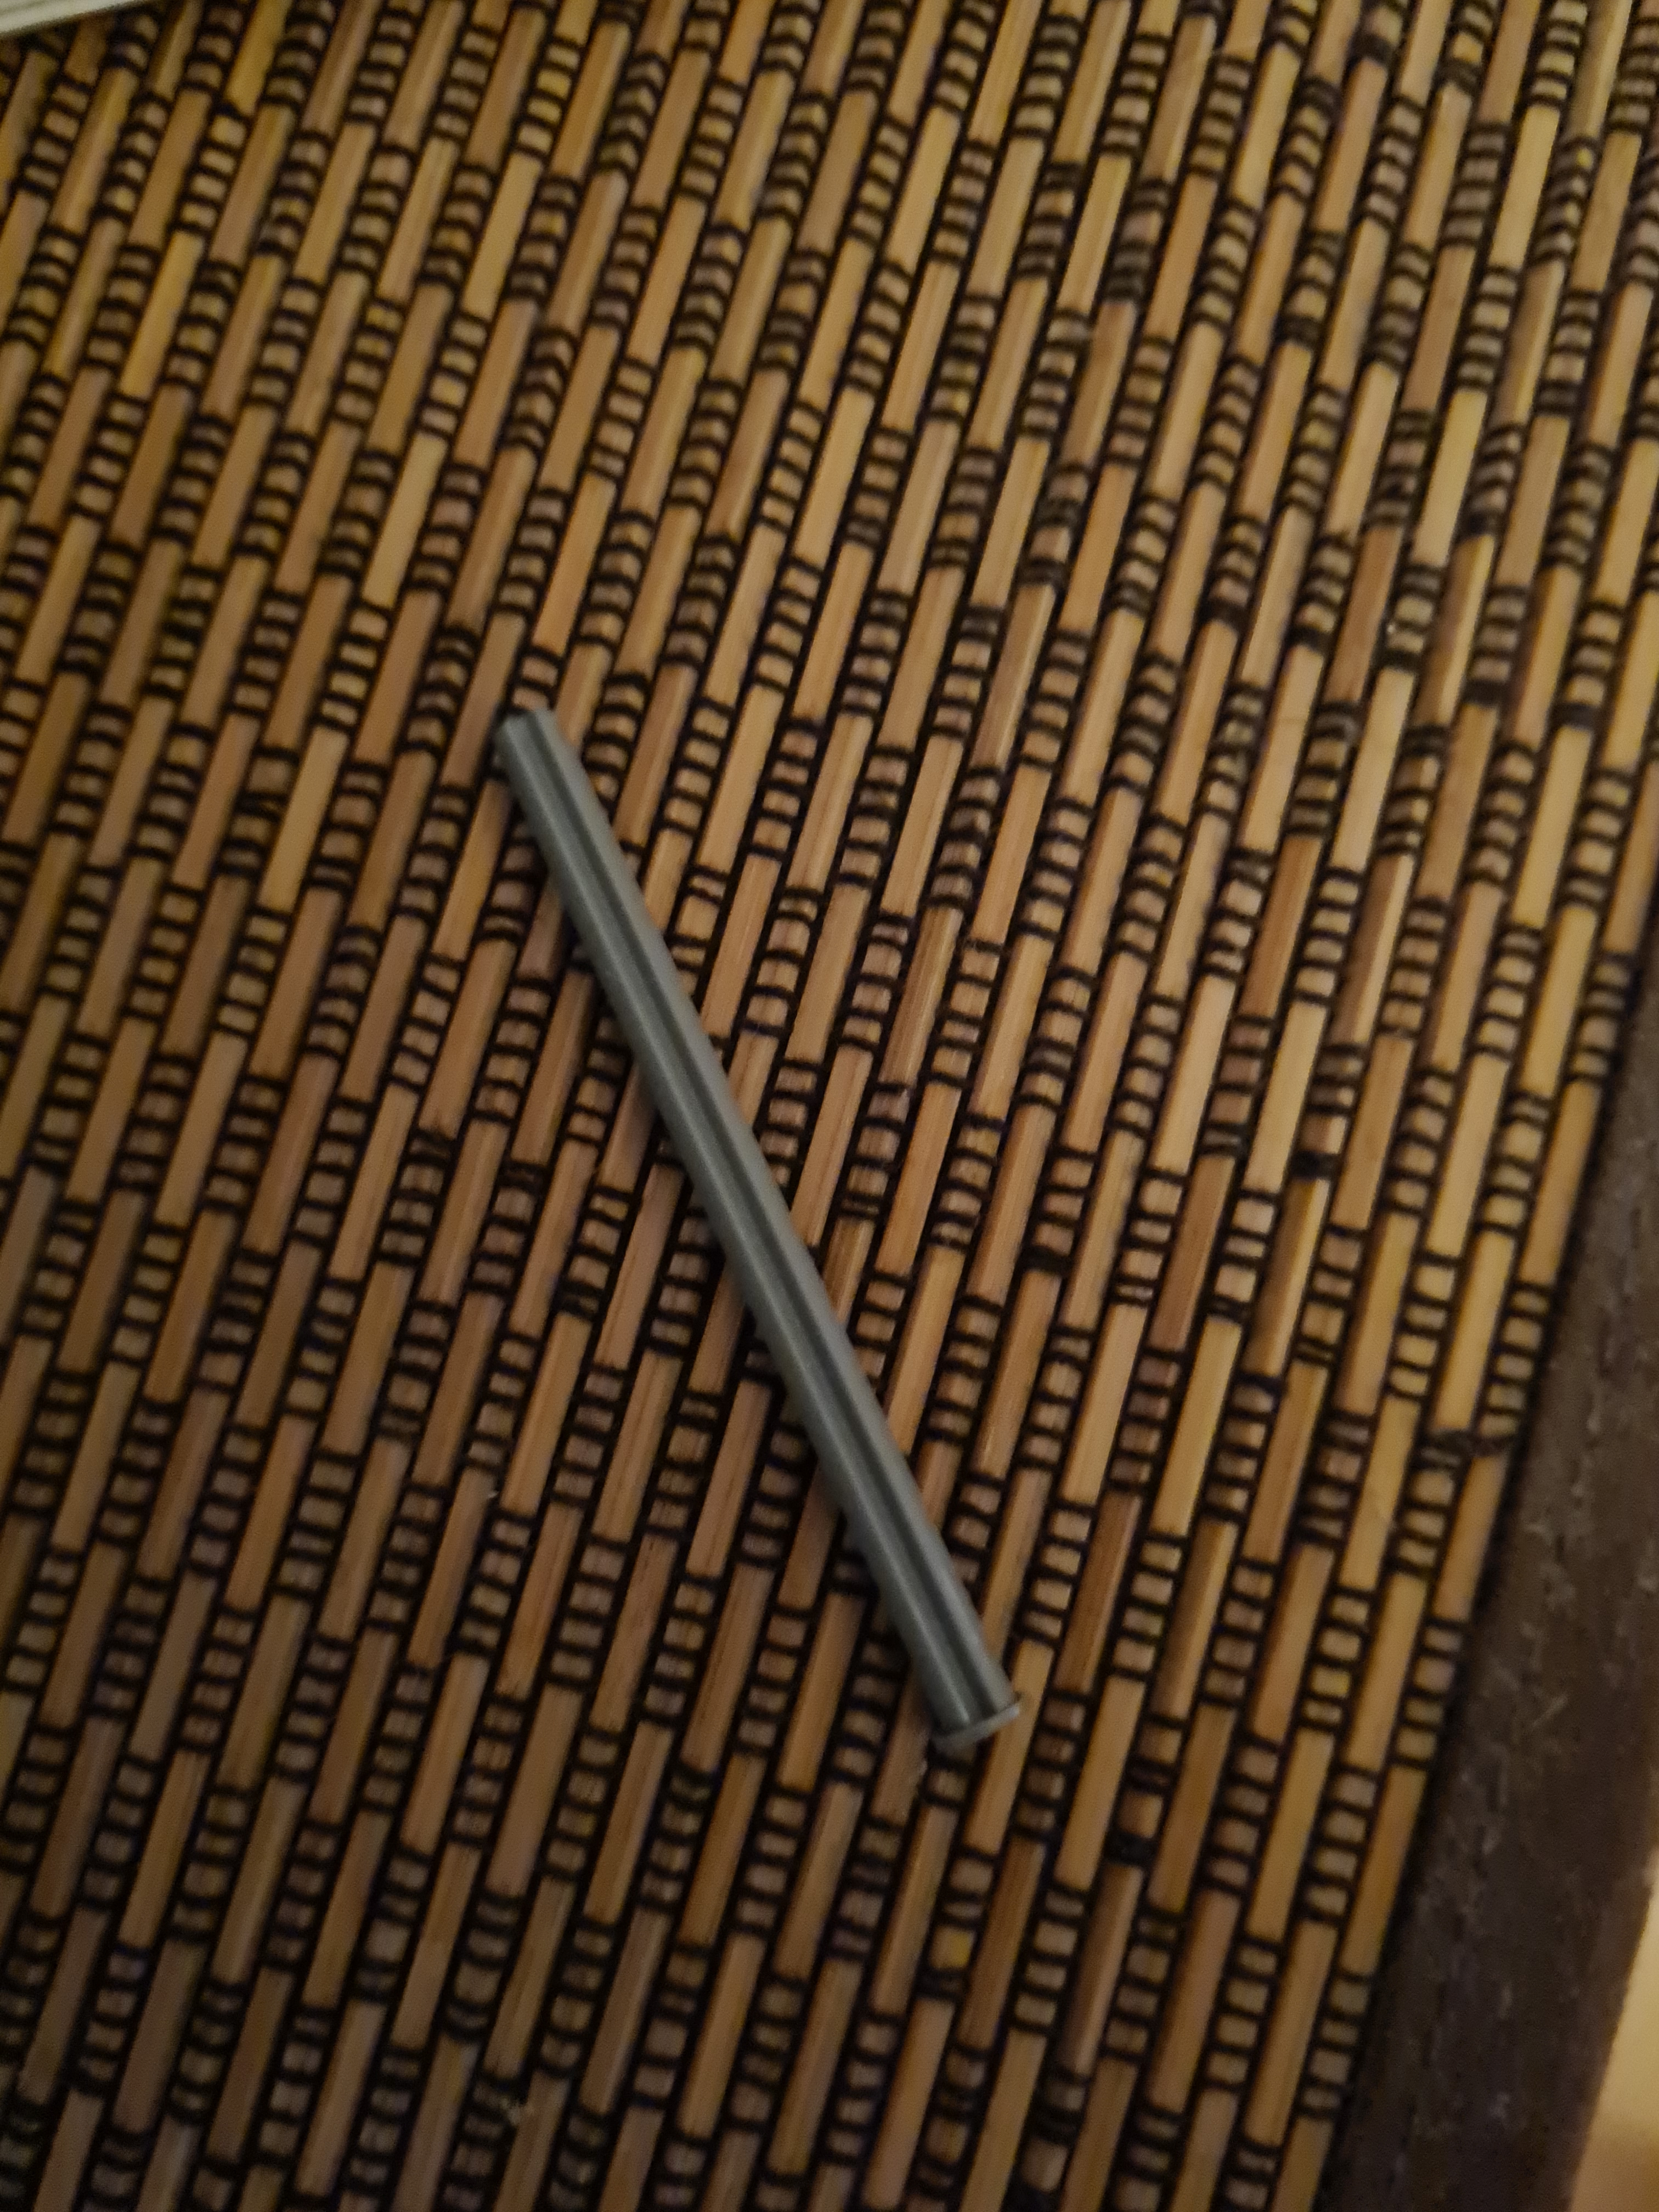Grau_lang: (462, 681, 1046, 1792)
